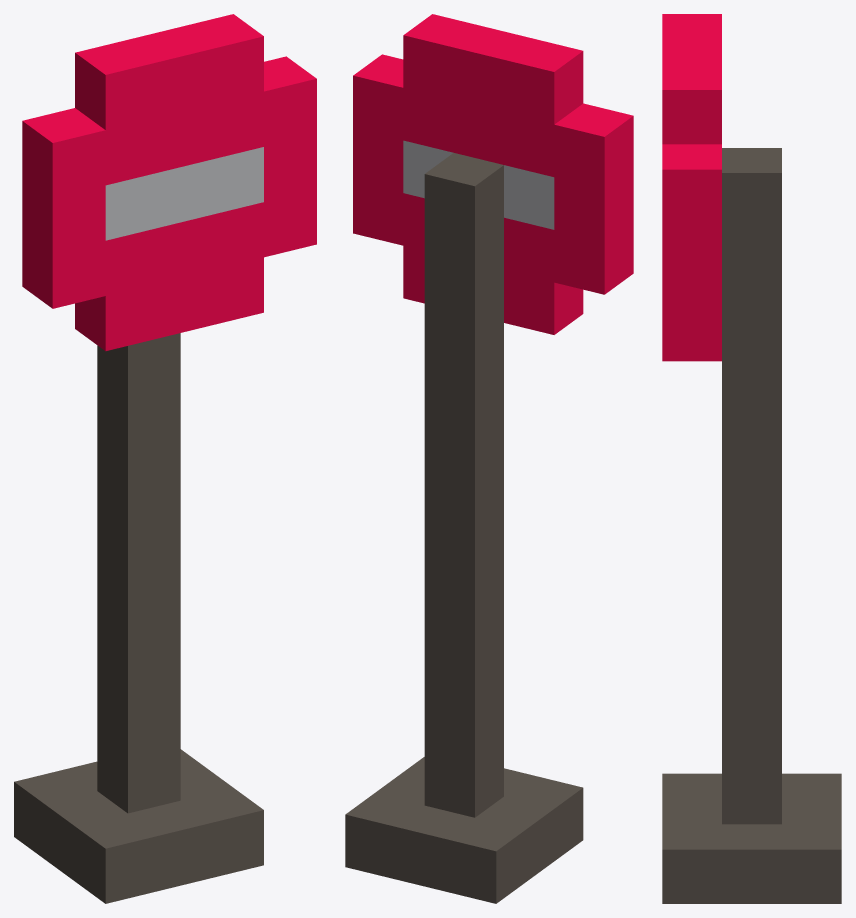
The model's file is traffic_sign_a_a.obj.
3 renders of one model, left to right at view 1: azimuth 30°, elevation 25°; view 2: azimuth 150°, elevation 25°; view 3: azimuth 270°, elevation 25°, orthographic. The views are drawn at different scales.
Bounding box in the file's own units: 0.5 × 1.5 × 0.3.
1 material, 1 textured.
